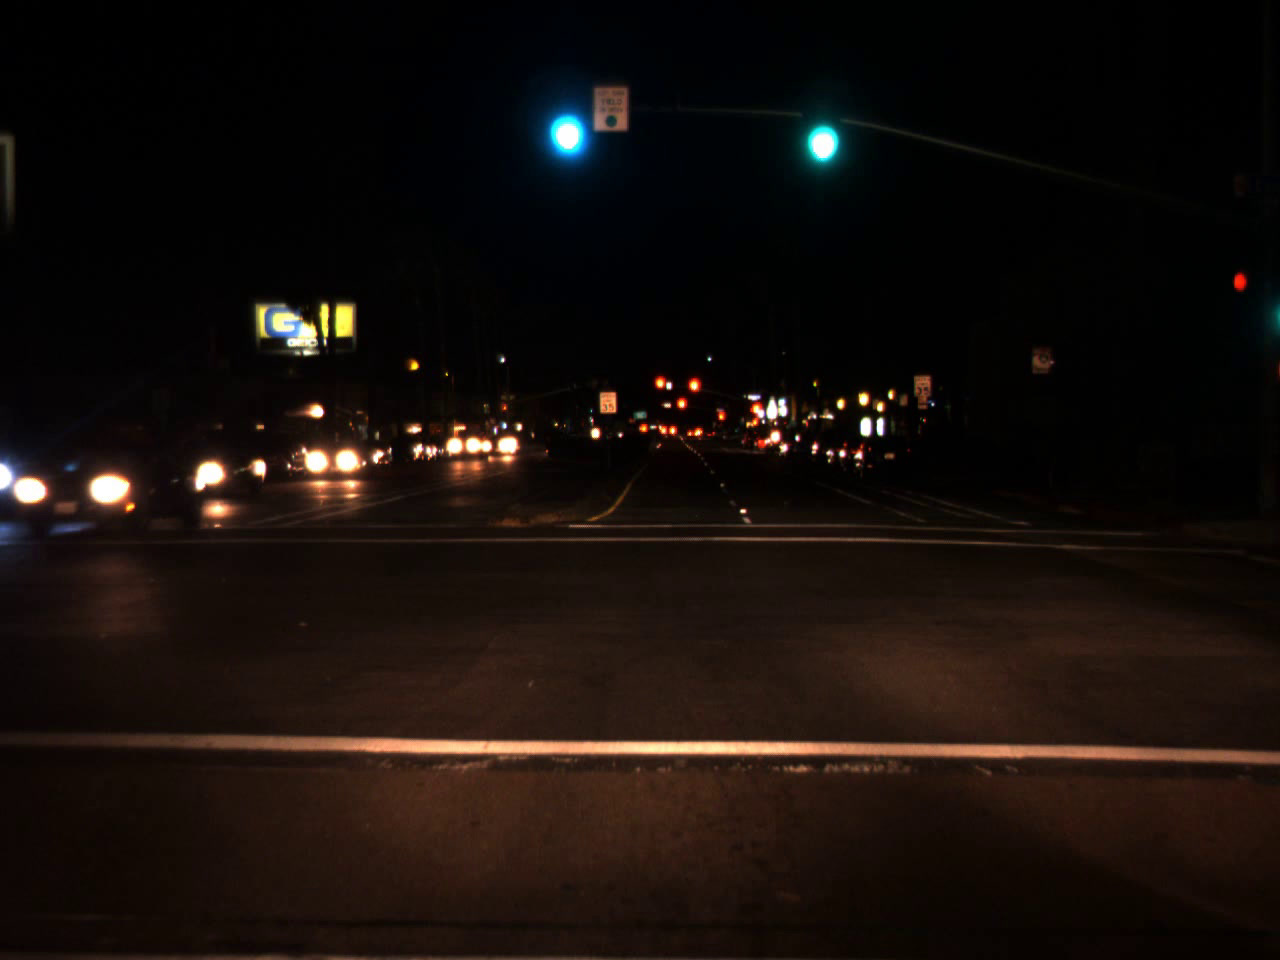go: (797, 86, 842, 173), (545, 88, 584, 160)
stop: (747, 399, 765, 431), (686, 375, 701, 410), (653, 374, 668, 403), (676, 396, 688, 419), (717, 410, 724, 431), (501, 402, 507, 418)
